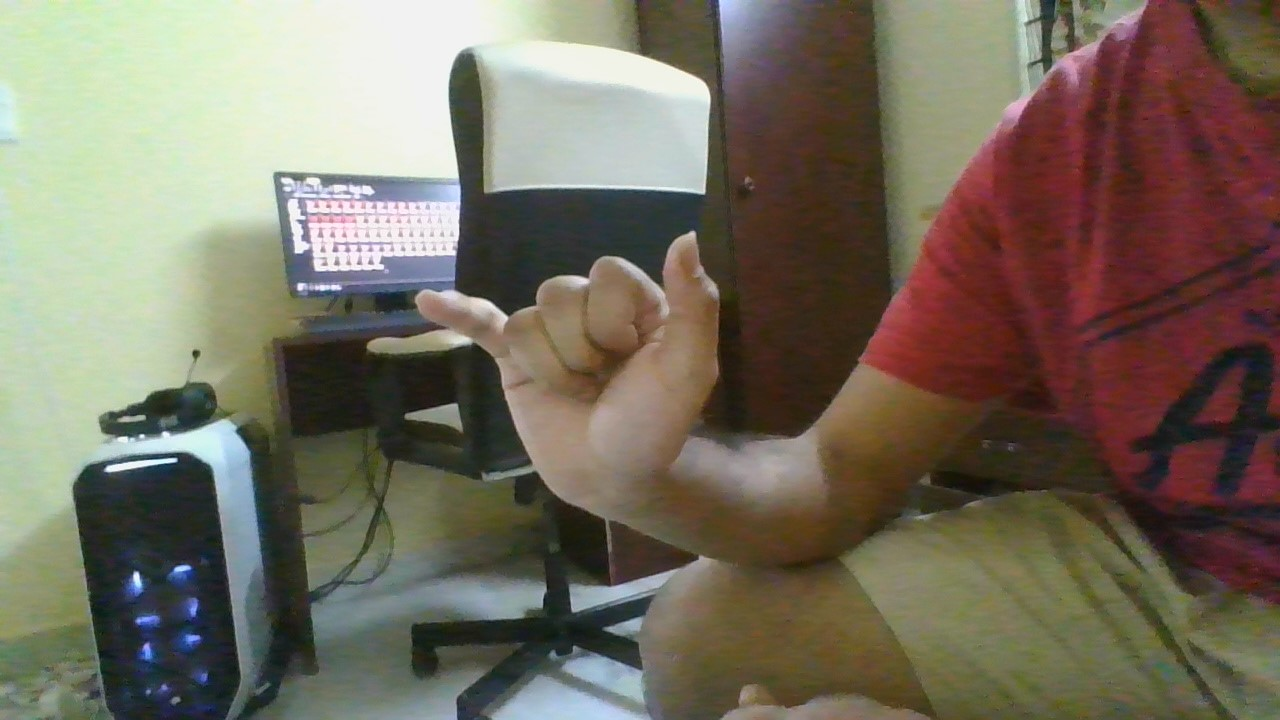y: (412, 227, 729, 514)
